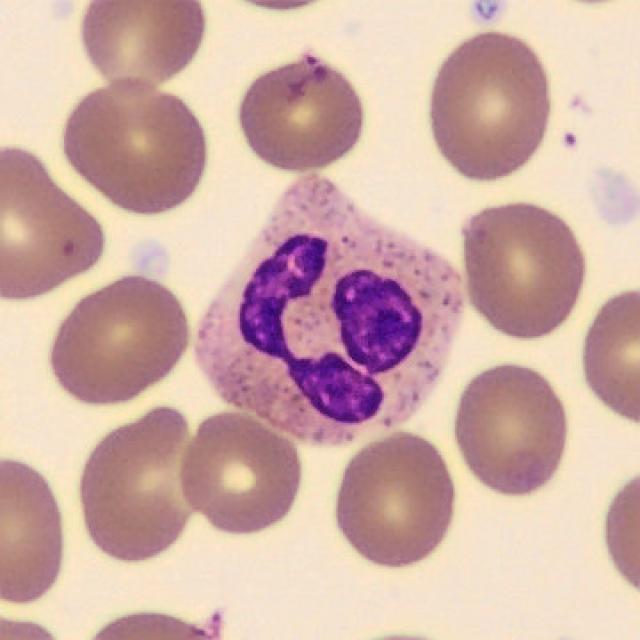Neutrofilo segmentado: (196, 176, 466, 448)
